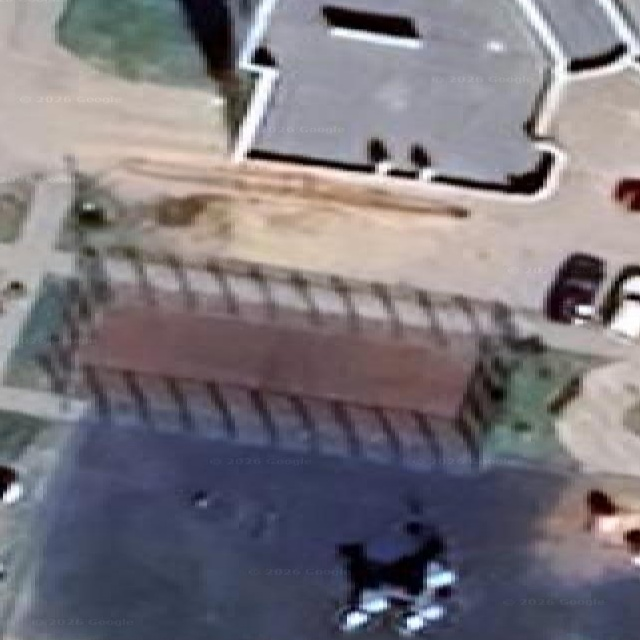car: (337, 521, 456, 636), (544, 253, 605, 323), (586, 490, 639, 567), (608, 275, 640, 340), (613, 178, 639, 212), (0, 465, 22, 504)
